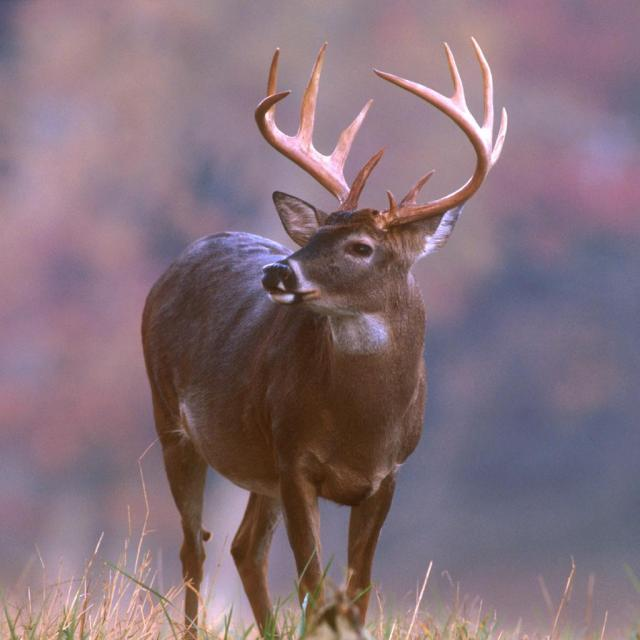Deer: (141, 39, 507, 639)
